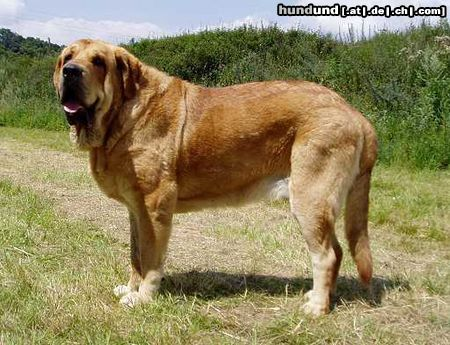mastin_espanol: (52, 37, 377, 319)
